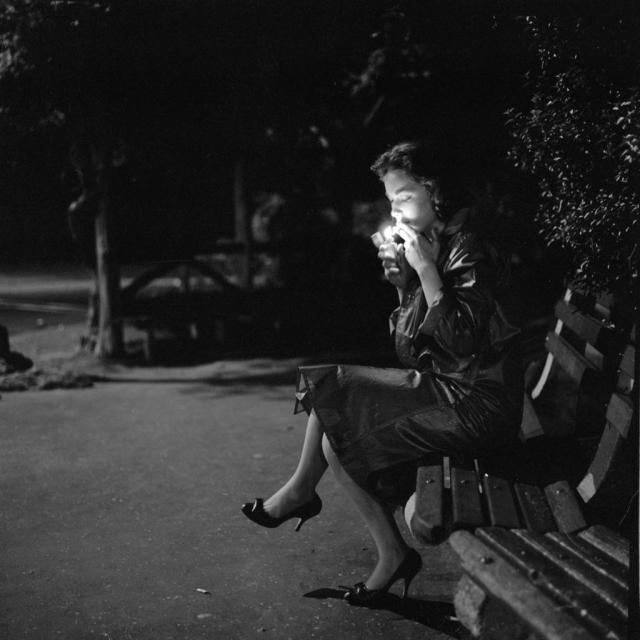smoking: (359, 167, 487, 266)
